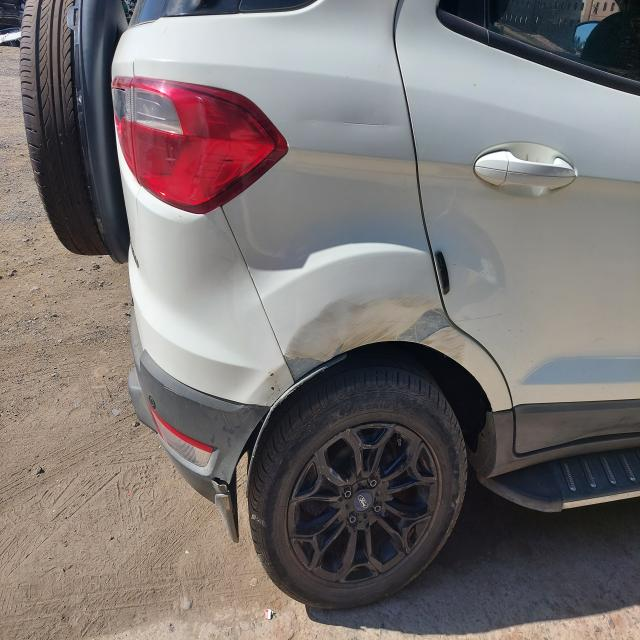damage: (288, 301, 486, 385), (233, 213, 425, 283), (301, 103, 408, 138), (257, 359, 287, 398)
